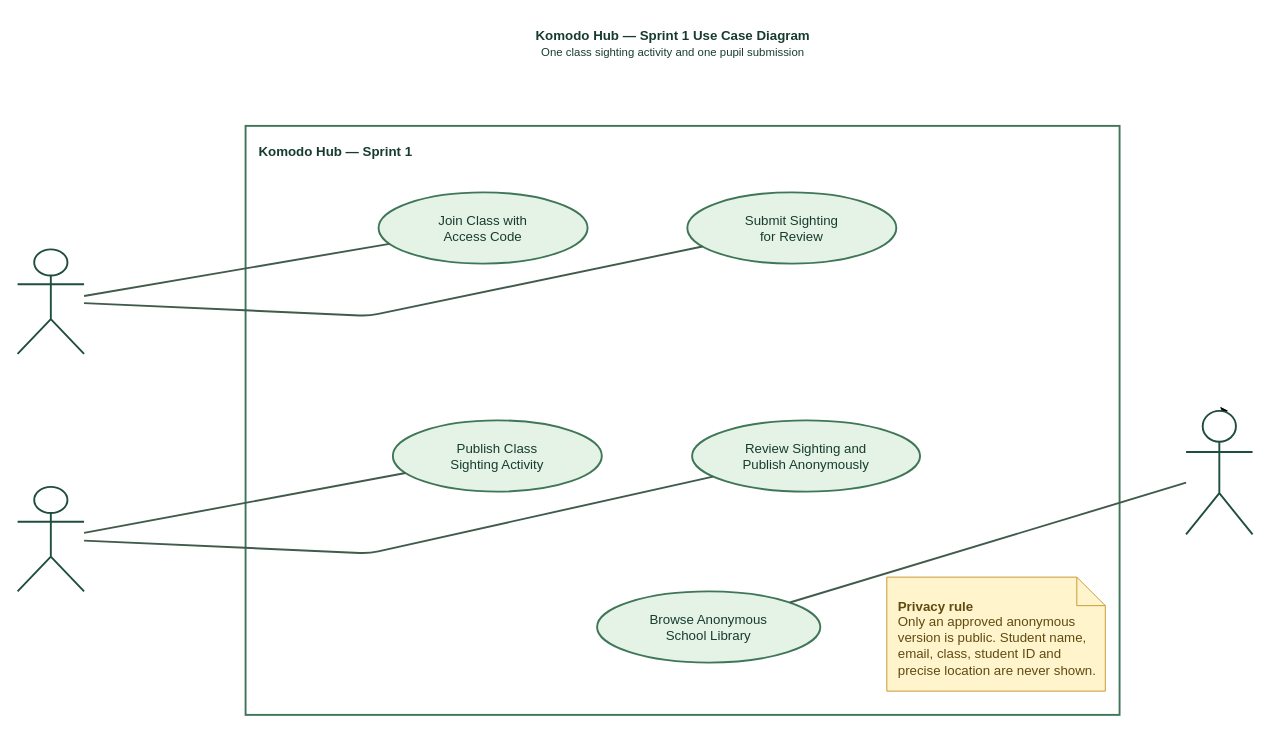
This 1269x732 diagram has some shape labels left out. Here are the shapes that lost their labels. From the top down, the centre of each, then its label:
At pixel 50 301: "Student".
At pixel 1219 472: "Public Visitor".
At pixel 50 538: "Teacher".
